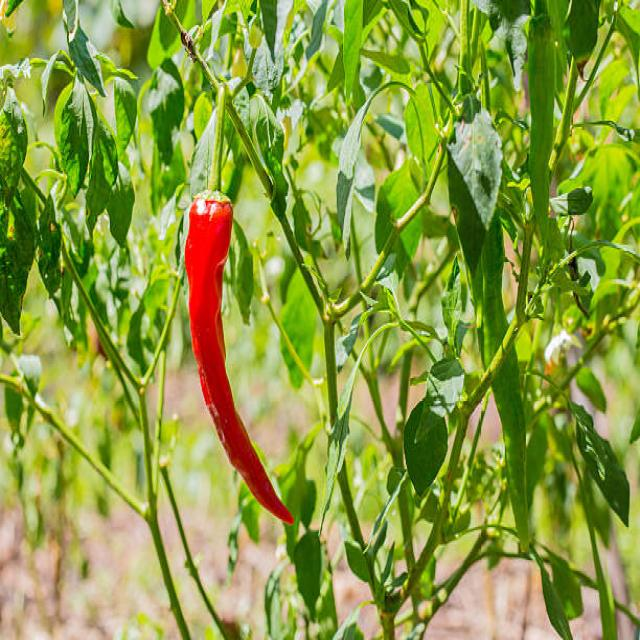Ripe: (185, 193, 294, 524)
